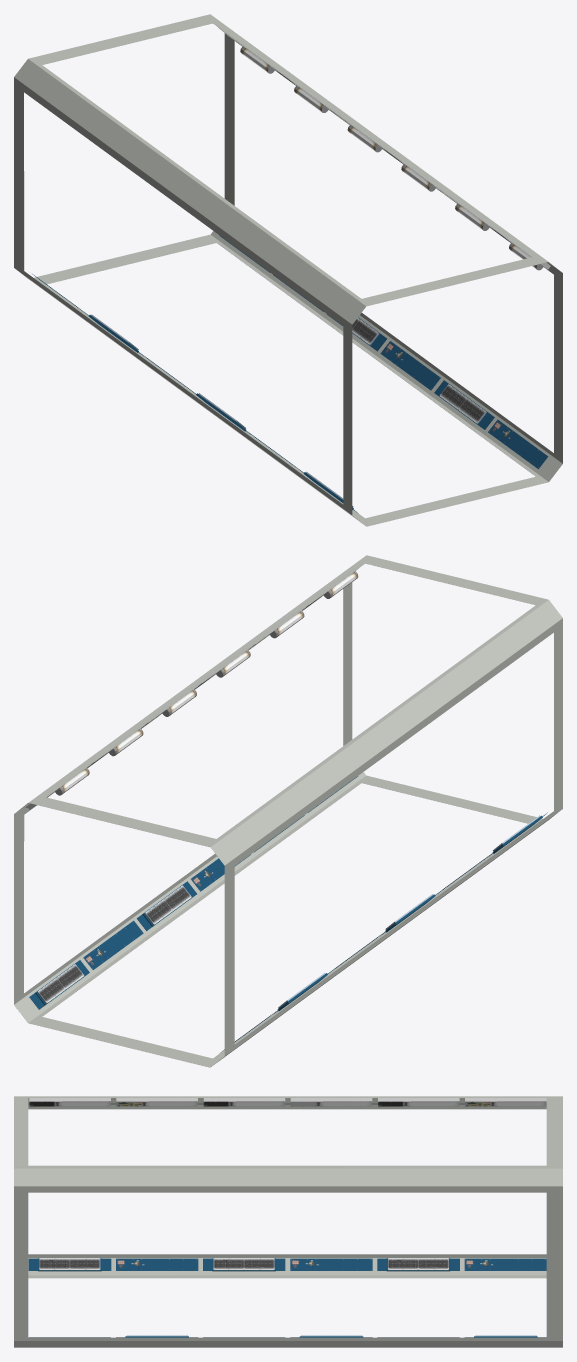
Rendered from US_Lab_MainFrame.dae.
3 views of the same model, one above another, from view 1: azimuth 30°, elevation 25°; view 2: azimuth 150°, elevation 25°; view 3: azimuth 270°, elevation 25° (orthographic). The views are drawn at different scales.
Parts seen in each view (by area): view 1: node; view 2: node; view 3: node.
Boxes of the visible parts, <box> form: node: <box>14,14,562,526</box>; node: <box>14,555,562,1067</box>; node: <box>14,1096,562,1347</box>.
Size of the model in its own units: 2.42 by 2.42 by 6.72.
Materials: 5 (5 with a texture image).
